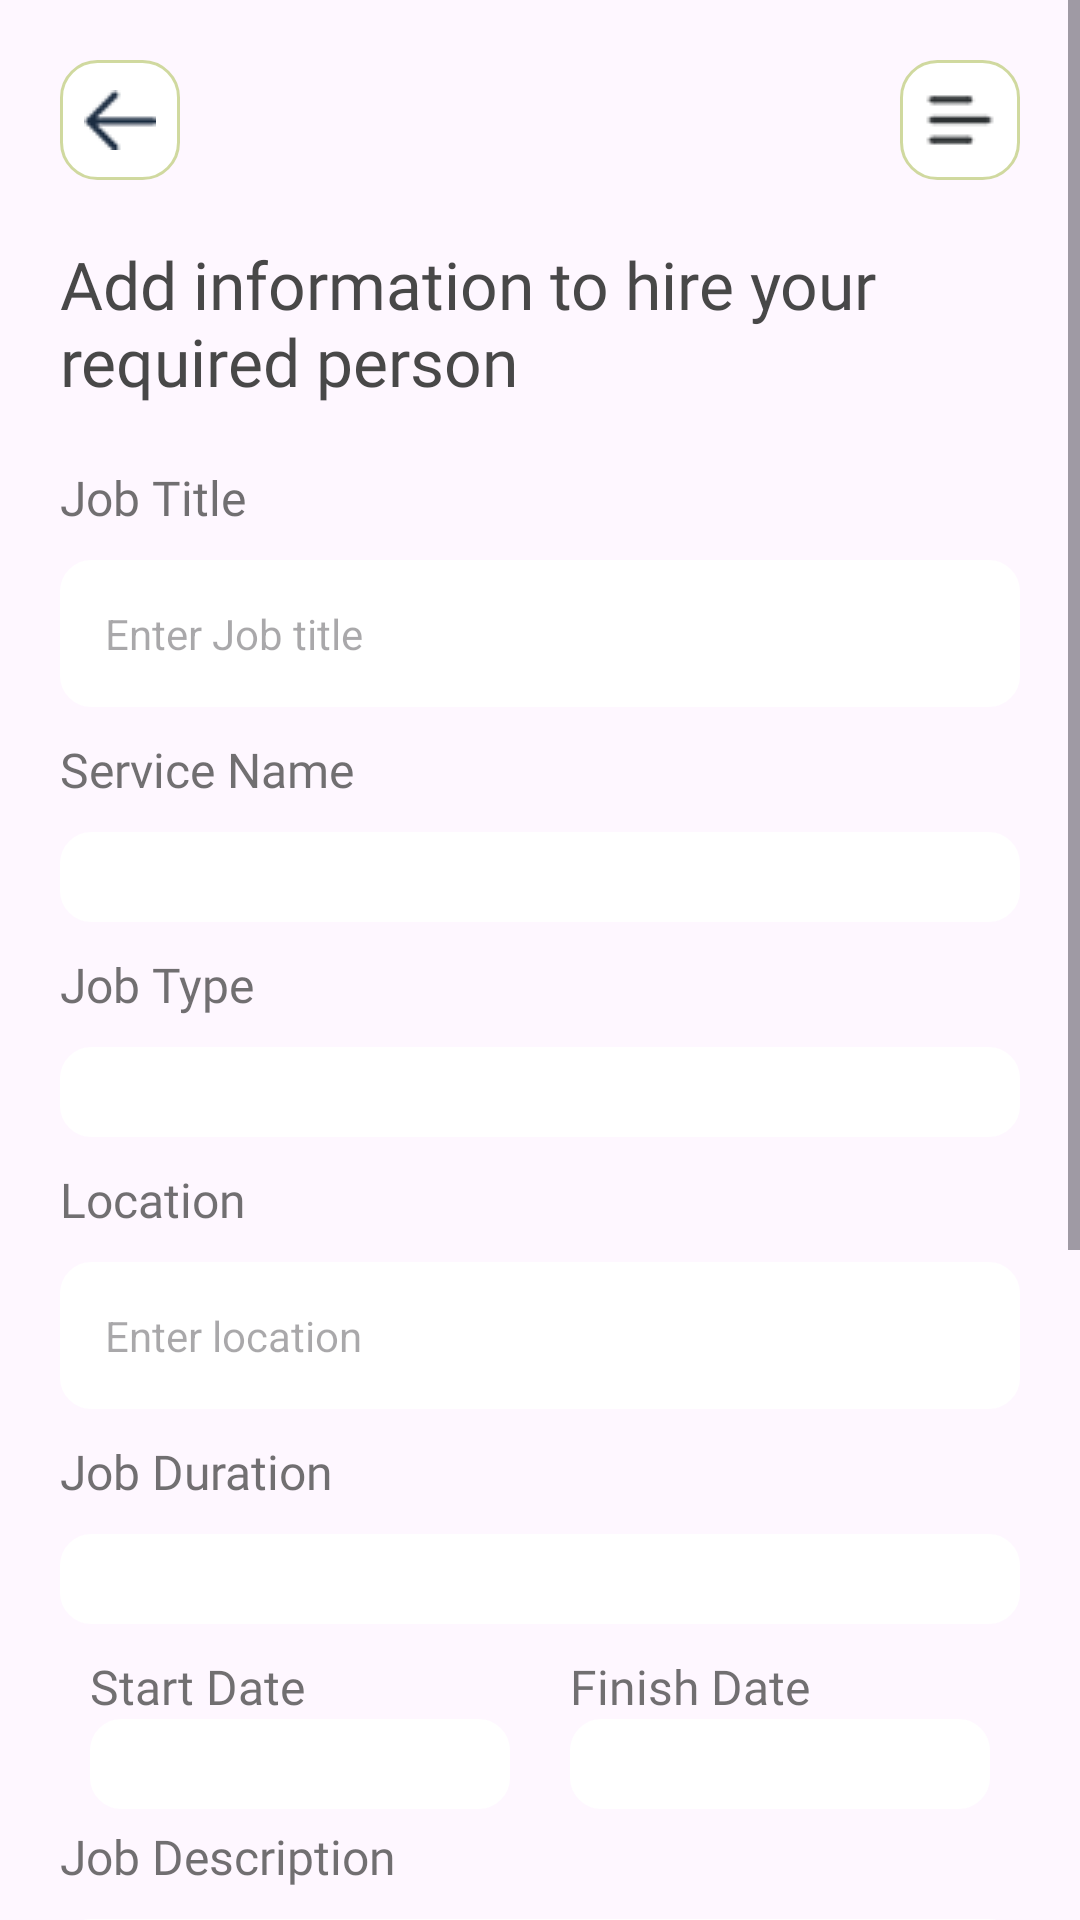

Screen size 1080 x 1920. Icon name, then its box in pixels as region(x1, y1, x2, y2):
arrowleft: region(60, 60, 180, 180)
menu: region(900, 60, 1020, 180)
